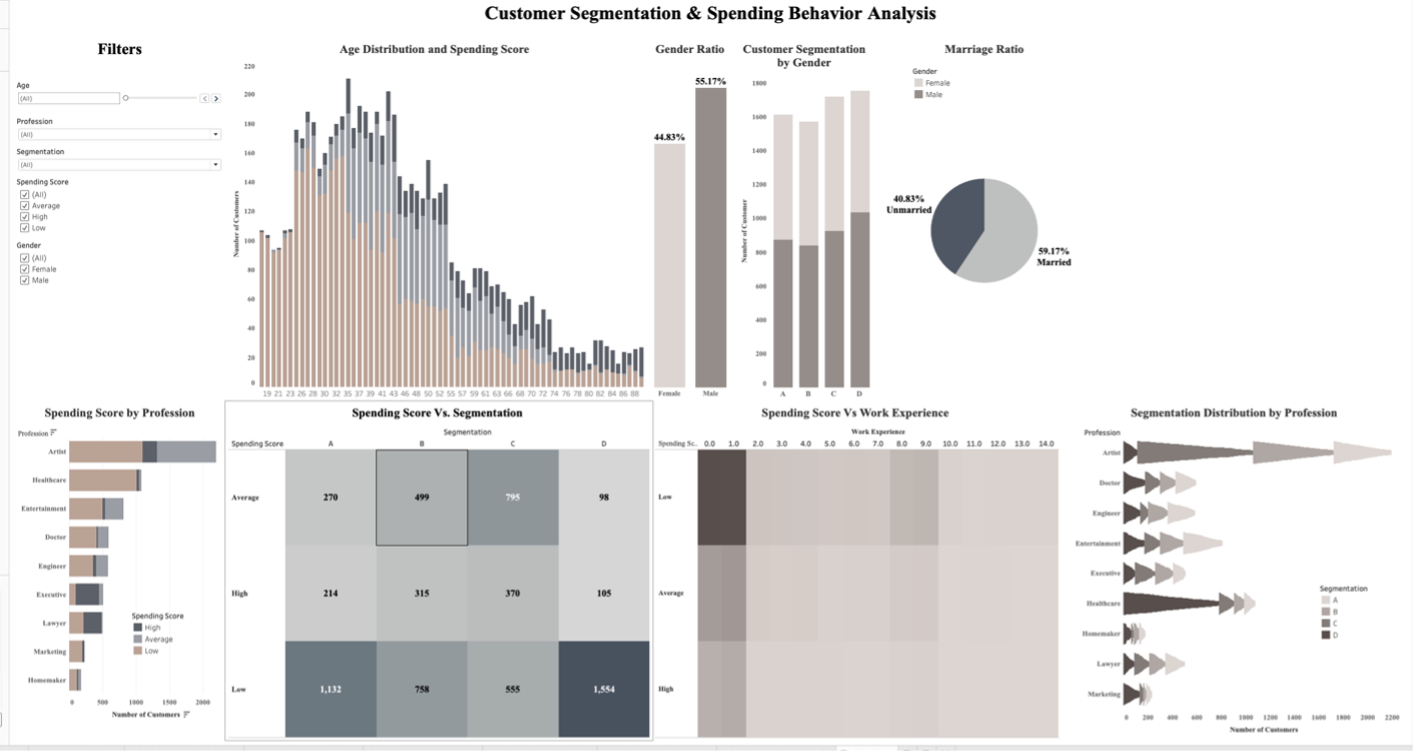

What the dashboard file says about the page in this screenshot:
{"tool":"tableau","page":{"name":"Dashboard 1","canvas":[1000,1000],"units":"permille","ordinal":0},"visuals":[{"type":"text","box":[4.7,9.3,990.6,64.8]},{"type":"text","box":[4.7,74.1,150.4,44]},{"type":"worksheet","title":"1.3 Age Distribution and Spending Score ","mark":"Automatic","rows":["Customer!segmentation_8659F585FC28473984D7BC33D43EBC14"],"cols":["Age"],"box":[155.1,74.1,402,474.5]},{"type":"worksheet","title":"1.1 Gender Ratio","mark":"Automatic","rows":["Customer!segmentation_8659F585FC28473984D7BC33D43EBC14"],"cols":["Gender"],"box":[557.1,74.1,85.4,474.5]},{"type":"worksheet","title":"2.1 customer by segmentaion and gender","mark":"Automatic","rows":["Customer!segmentation_8659F585FC28473984D7BC33D43EBC14"],"cols":["Segmentation"],"box":[642.5,74.1,138.7,474.5]},{"type":"worksheet","title":"1.2 Married Vs Unmarried","mark":"Pie","box":[781.2,74.1,214.2,474.5]},{"type":"legend","title":"1.1 Gender Ratio","param":"[federated.1sno4z51022sau11hy0up1l21c05].[none:Gender:nk]","box":[644.2,108.8,50.3,68.3]},{"type":"filter","title":"1.3 Age Distribution and Spending Score ","param":"[federated.1sno4z51022sau11hy0up1l21c05].[none:Age:nk]","box":[4.7,126.5,150.4,71.8]},{"type":"filter","title":"2.2 Segmentation distribution by profession","param":"[federated.1sno4z51022sau11hy0up1l21c05].[none:Profession:nk]","box":[4.7,198.2,150.4,60.2]},{"type":"filter","title":"2.1 customer by segmentaion and gender","param":"[federated.1sno4z51022sau11hy0up1l21c05].[none:Segmentation:nk]","box":[4.7,258.4,150.4,60.2]},{"type":"filter","title":"3.1 Spending vs Segmentation ","param":"[federated.1sno4z51022sau11hy0up1l21c05].[none:Spending_Score:nk]","box":[4.7,318.6,150.4,126.2]},{"type":"filter","title":"1.1 Gender Ratio","param":"[federated.1sno4z51022sau11hy0up1l21c05].[none:Gender:nk]","box":[4.7,444.8,150.4,103]},{"type":"worksheet","title":"3.2 Spending score by profession ","mark":"Automatic","rows":["Profession"],"cols":["Customer!segmentation_8659F585FC28473984D7BC33D43EBC14"],"box":[4.7,548.6,150.4,442.1]},{"type":"worksheet","title":"3.1 Spending vs Segmentation ","mark":"Square","rows":["Spending_Score"],"cols":["Segmentation"],"box":[155.1,548.6,303.7,442.1]},{"type":"worksheet","title":"3.3 Spending Score Vs Work Experience ","mark":"Automatic","rows":["Spending_Score"],"cols":["Work_Experience"],"box":[458.8,548.6,290.8,442.1]},{"type":"worksheet","title":"2.2 Segmentation distribution by profession","mark":"Automatic","rows":["Profession"],"cols":["Customer!segmentation_8659F585FC28473984D7BC33D43EBC14"],"box":[749.6,548.6,245.8,442.1]},{"type":"legend","title":"2.2 Segmentation distribution by profession","param":"[federated.1sno4z51022sau11hy0up1l21c05].[none:Segmentation:nk]","box":[934.5,788.2,55,114.6]},{"type":"legend","title":"1.3 Age Distribution and Spending Score ","param":"[federated.1sno4z51022sau11hy0up1l21c05].[none:Spending_Score:nk]","box":[87.2,824.1,83.7,100.7]}]}

Visuals, with their boxes on the dashboard's canvas, which has no fixed pixel size, in thousandths of its width and height (x1, y1, x2, y2). These are canvas units, not pixel positions in the 1417x754 screenshot, which may show the page scaled, cropped or inside an application window:
text: <bbox>5, 9, 995, 74</bbox>
text: <bbox>5, 74, 155, 118</bbox>
"1.3 Age Distribution and Spending Score " worksheet: <bbox>155, 74, 557, 549</bbox>
"1.1 Gender Ratio" worksheet: <bbox>557, 74, 642, 549</bbox>
"2.1 customer by segmentaion and gender" worksheet: <bbox>642, 74, 781, 549</bbox>
"1.2 Married Vs Unmarried" worksheet (Pie marks): <bbox>781, 74, 995, 549</bbox>
"1.1 Gender Ratio" legend: <bbox>644, 109, 694, 177</bbox>
"1.3 Age Distribution and Spending Score " filter: <bbox>5, 126, 155, 198</bbox>
"2.2 Segmentation distribution by profession" filter: <bbox>5, 198, 155, 258</bbox>
"2.1 customer by segmentaion and gender" filter: <bbox>5, 258, 155, 319</bbox>
"3.1 Spending vs Segmentation " filter: <bbox>5, 319, 155, 445</bbox>
"1.1 Gender Ratio" filter: <bbox>5, 445, 155, 548</bbox>
"3.2 Spending score by profession " worksheet: <bbox>5, 549, 155, 991</bbox>
"3.1 Spending vs Segmentation " worksheet (Square marks): <bbox>155, 549, 459, 991</bbox>
"3.3 Spending Score Vs Work Experience " worksheet: <bbox>459, 549, 750, 991</bbox>
"2.2 Segmentation distribution by profession" worksheet: <bbox>750, 549, 995, 991</bbox>
"2.2 Segmentation distribution by profession" legend: <bbox>934, 788, 990, 903</bbox>
"1.3 Age Distribution and Spending Score " legend: <bbox>87, 824, 171, 925</bbox>
